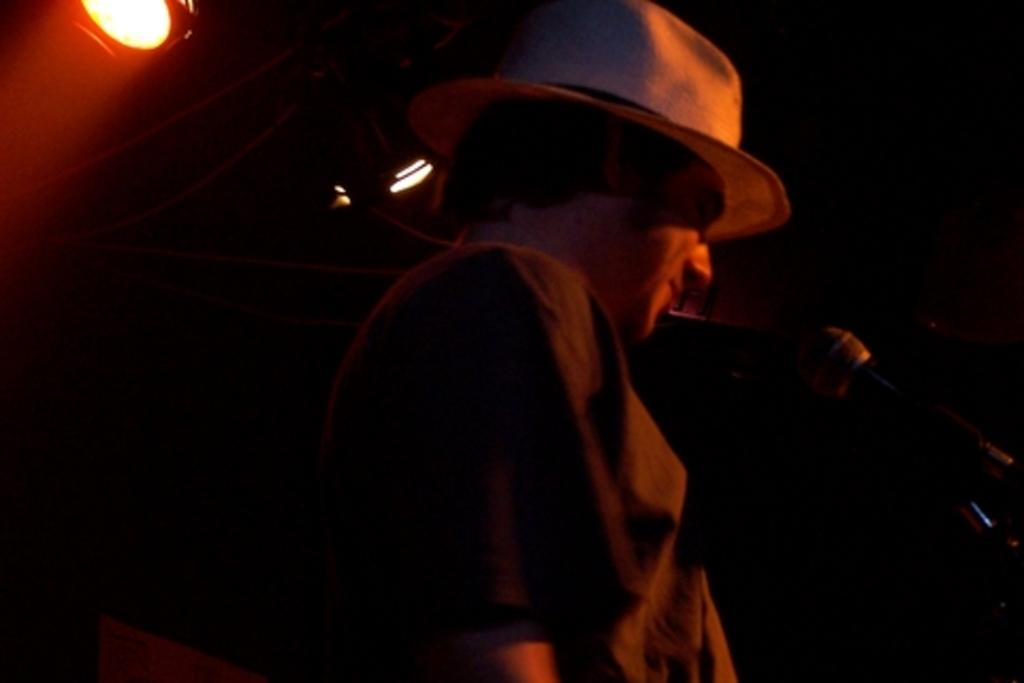Hat: (406, 0, 788, 245)
